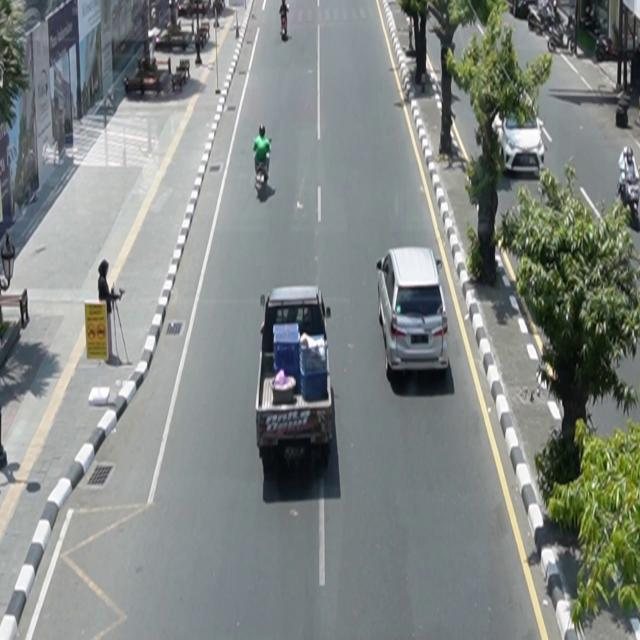car: (377, 246, 450, 378), (492, 90, 546, 178)
truck: (256, 285, 334, 471)
